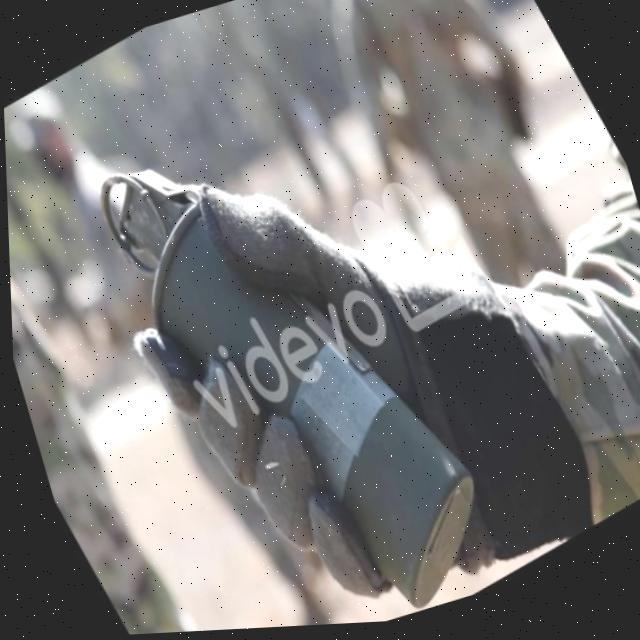grenade: (47, 52, 517, 638)
